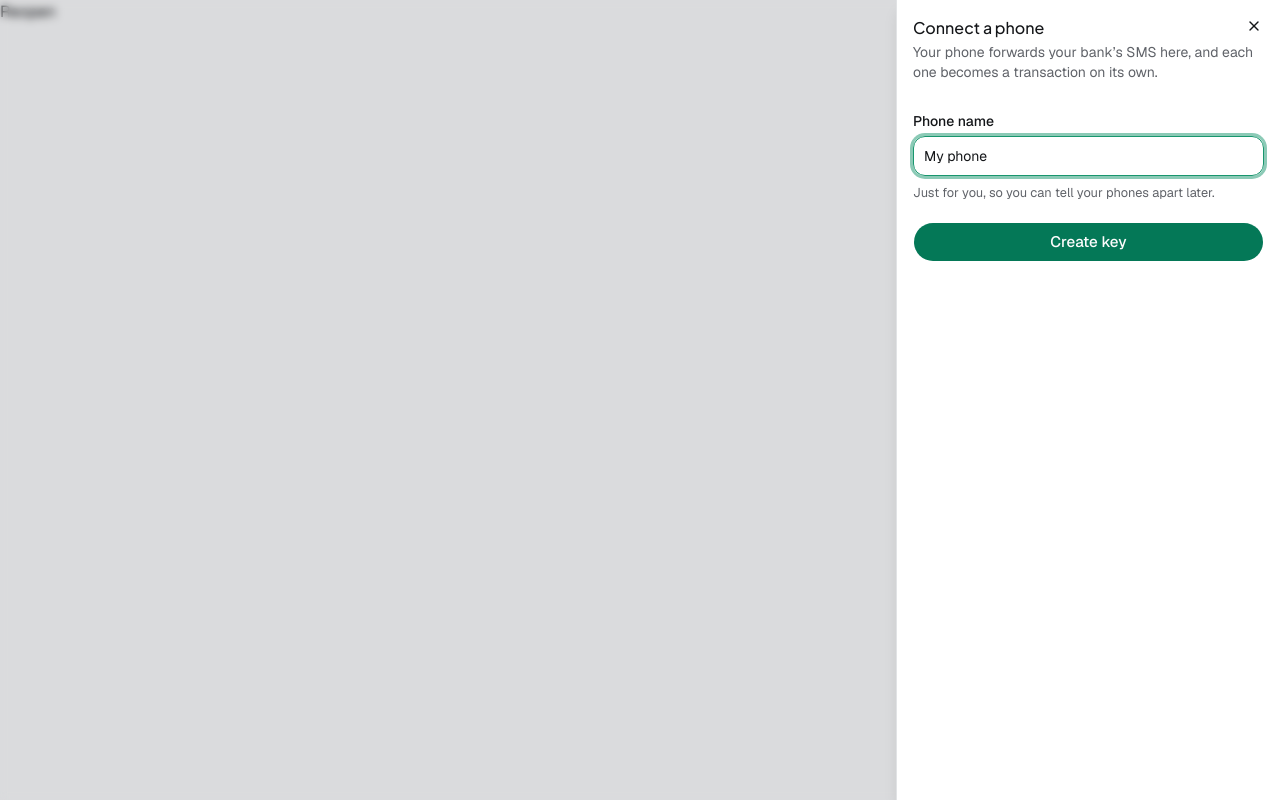
Test: ConnectPhoneSheet › sends the trimmed name and shows the key once
Replace the text in the field labelled "Phone name" with "  Test phone  ": (1088, 156) [913,136,1264,176]
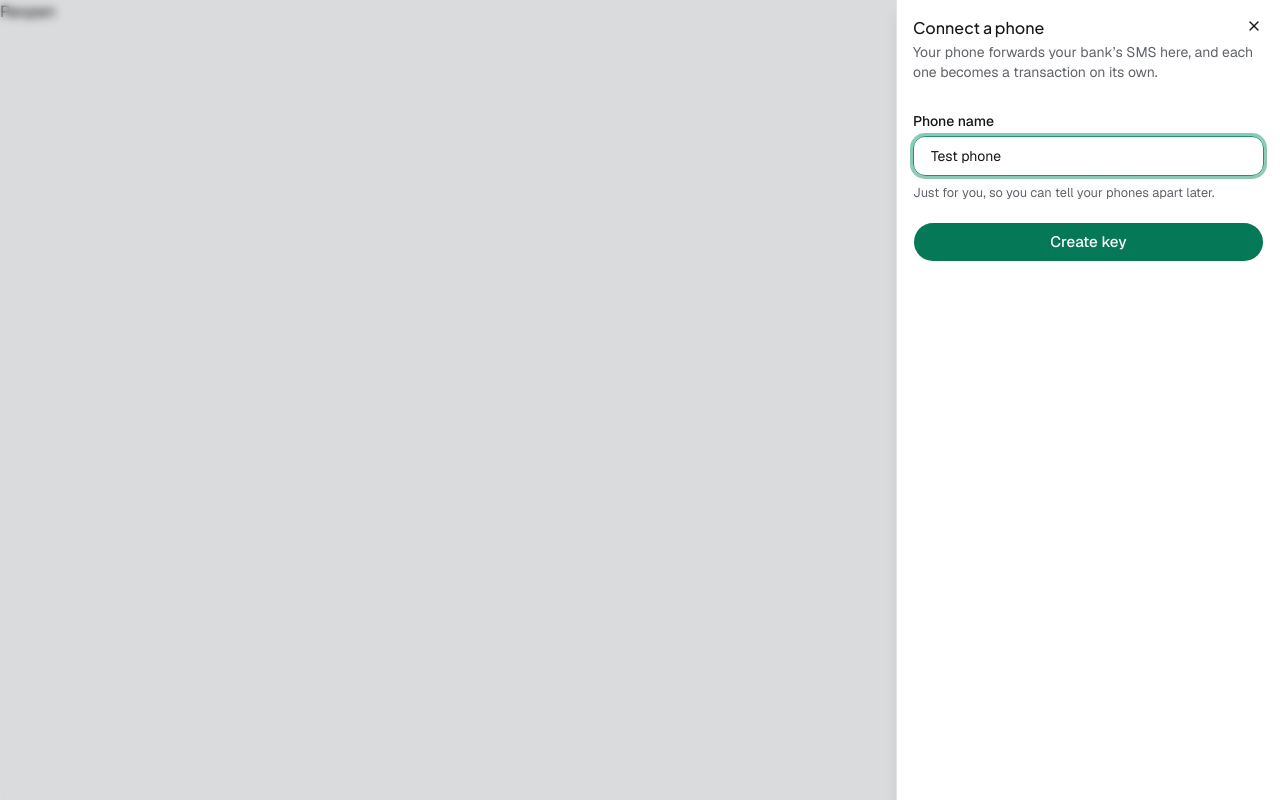
Click the button "Create key": (1088, 242) [913,222,1264,262]
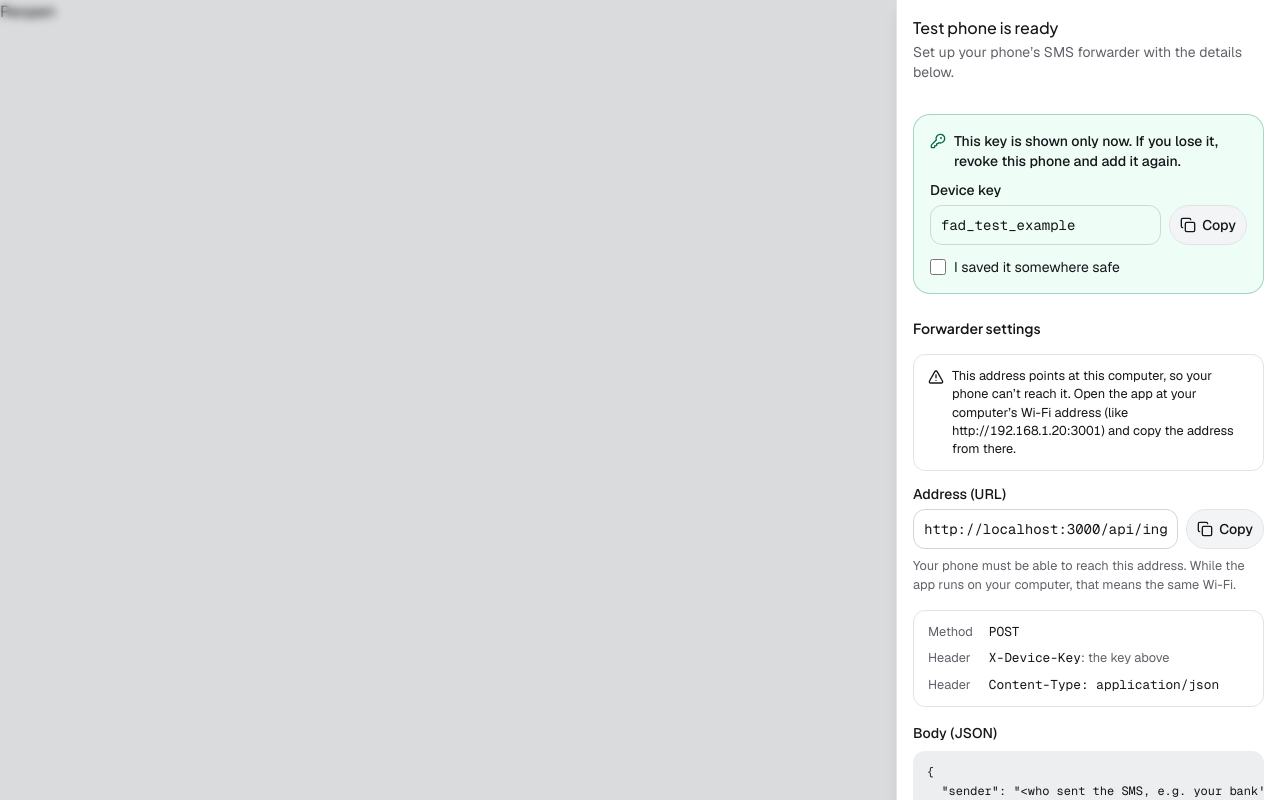
Expected: the field showing "fad_test_example" is shown, [930,205,1161,245]
